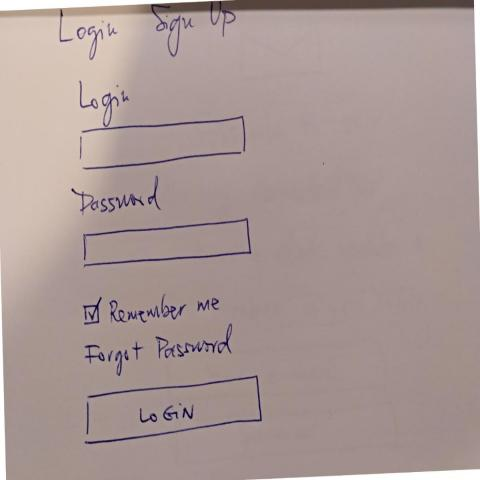Button: (83, 374, 266, 448)
Check Box: (82, 296, 222, 330)
Textbox: (79, 116, 248, 172), (83, 218, 254, 269)
